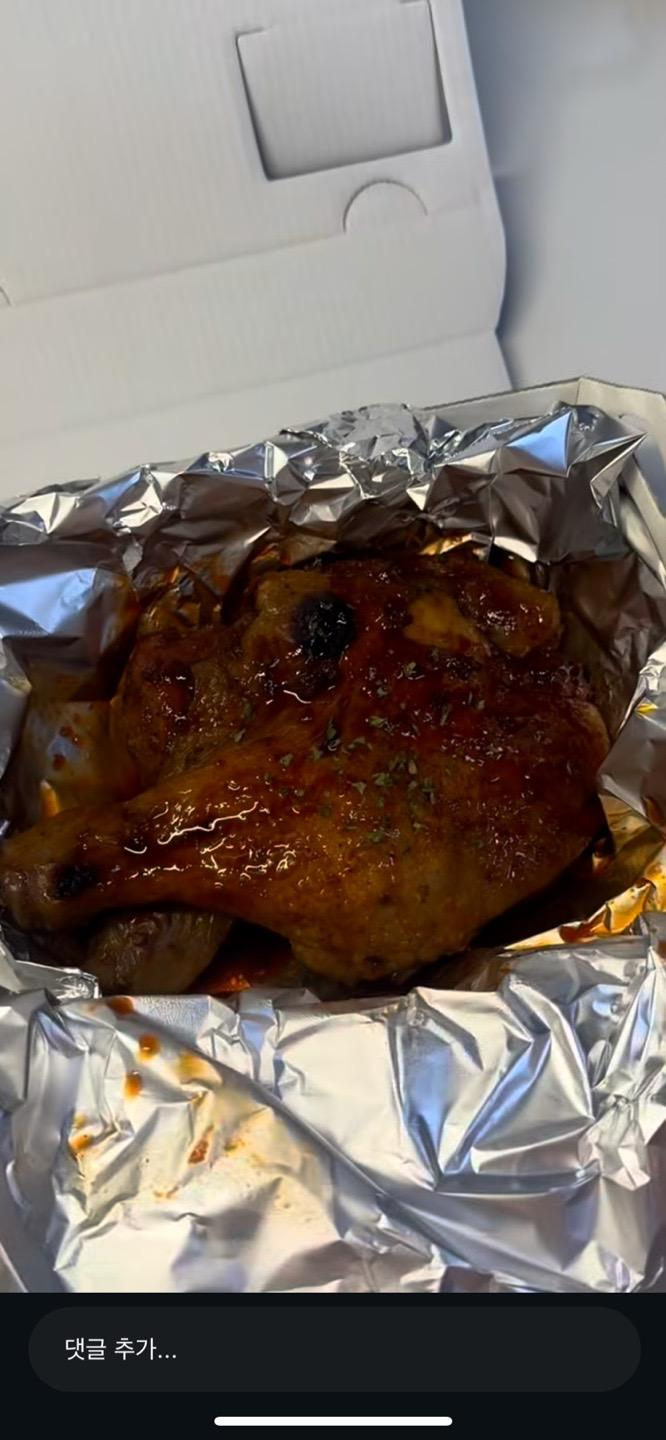Lunch Box: (0, 0, 665, 1295)
